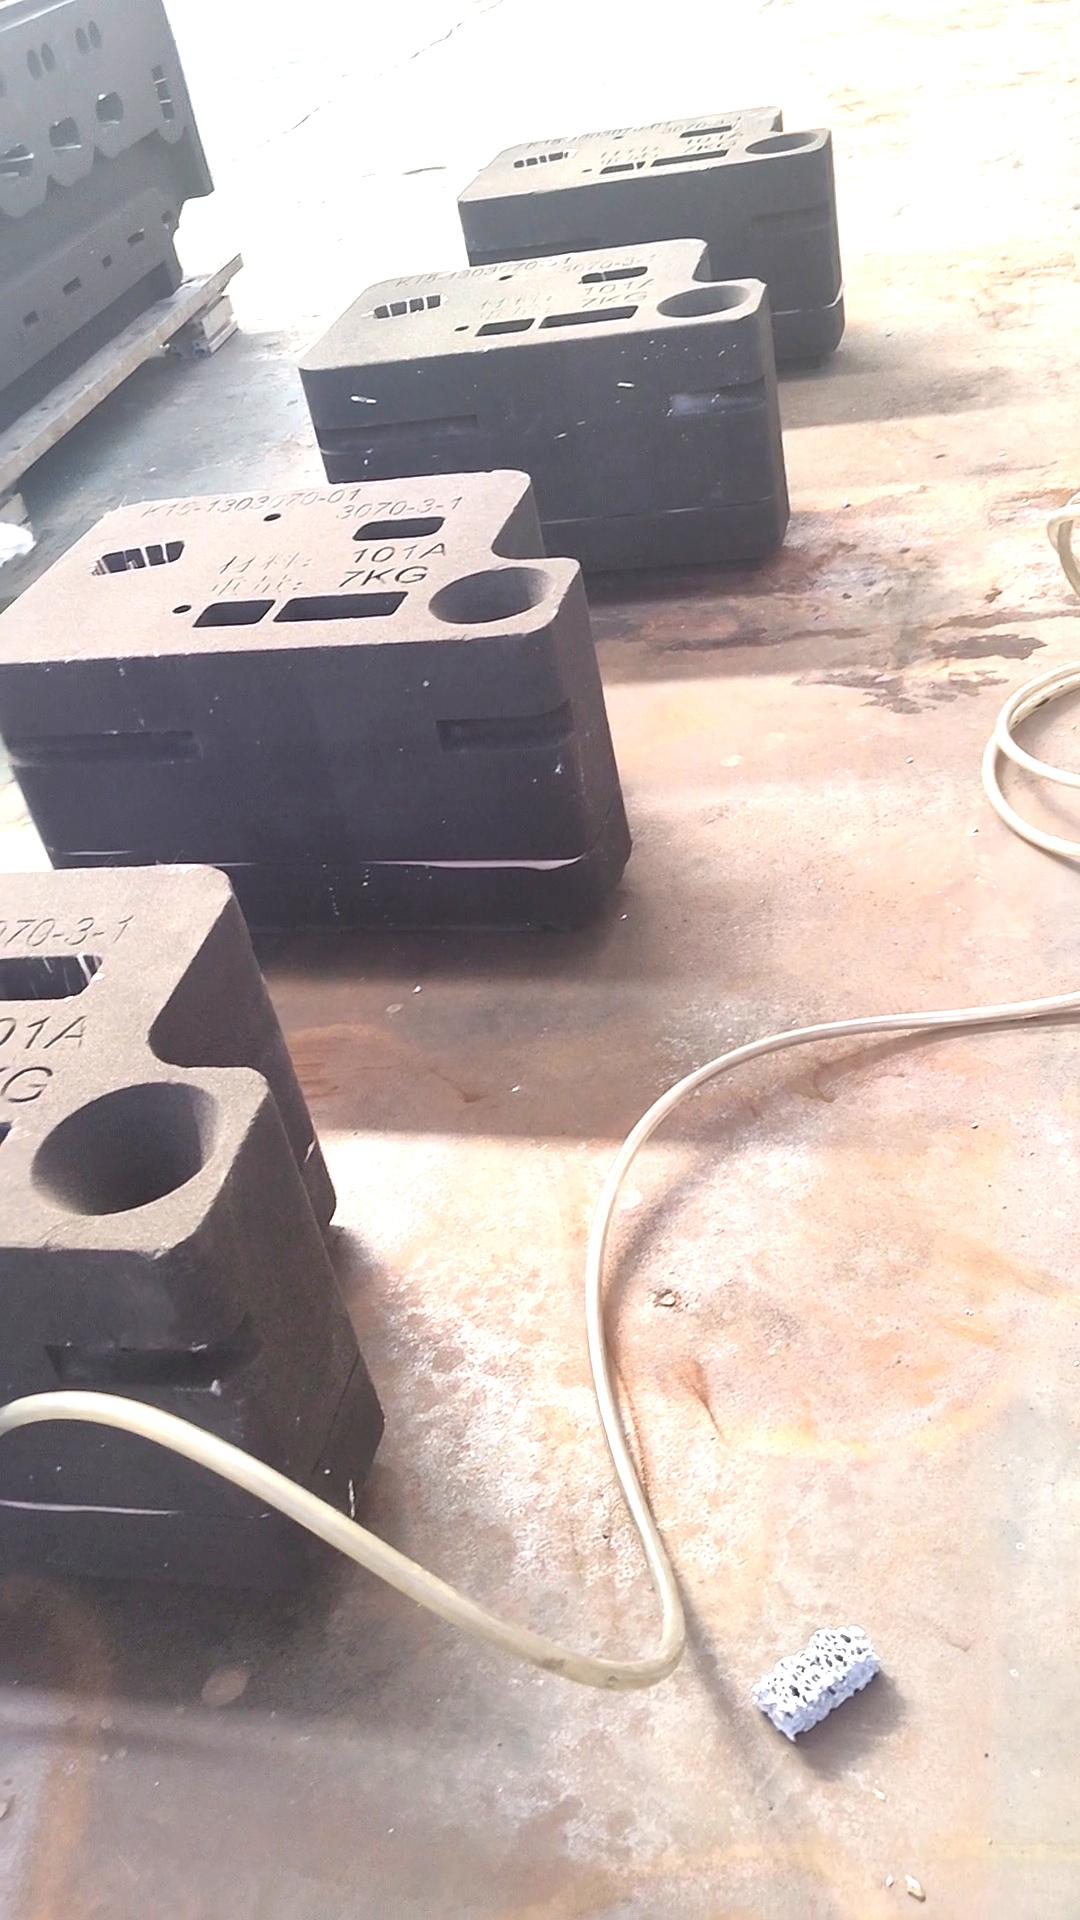pouring hole: (26, 1080, 224, 1218), (427, 564, 556, 625), (655, 284, 753, 318), (744, 131, 820, 154)
